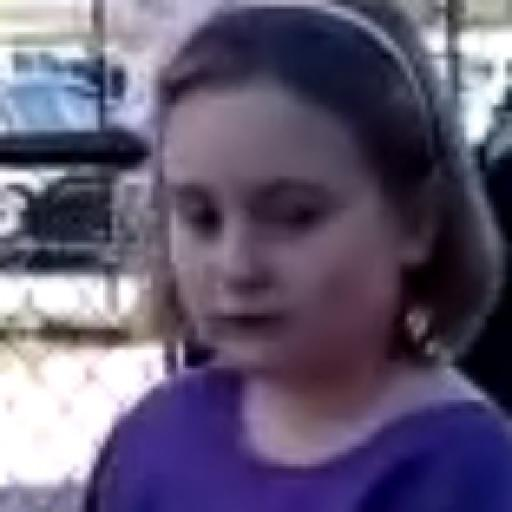Autism: (140, 38, 444, 426)
